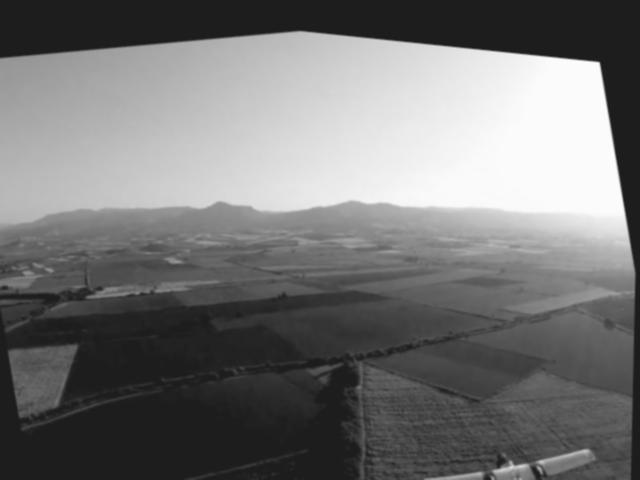hedef: (413, 406, 611, 480)
